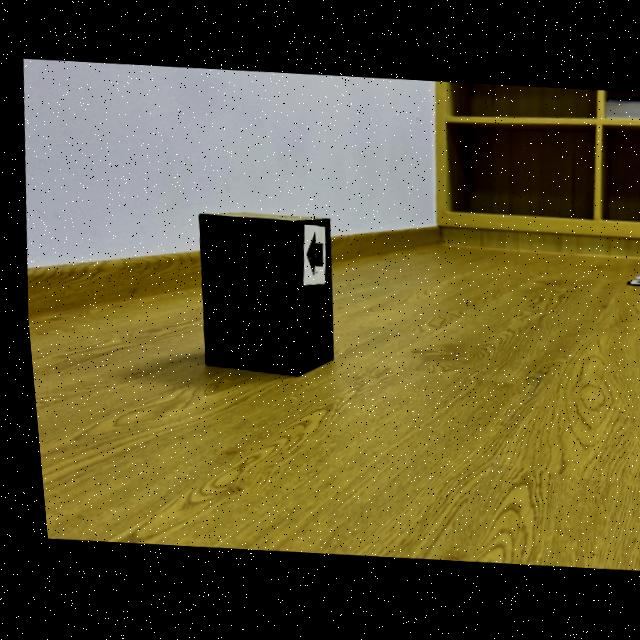LEFT: (301, 236, 318, 275)
